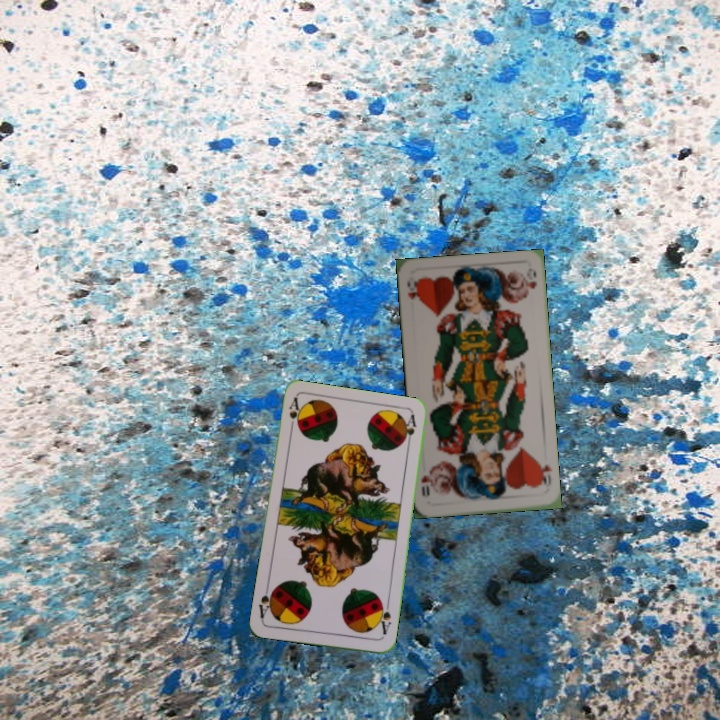HO: (534, 457, 555, 490), (403, 274, 421, 305)
SA: (284, 394, 305, 435), (374, 598, 394, 637)
